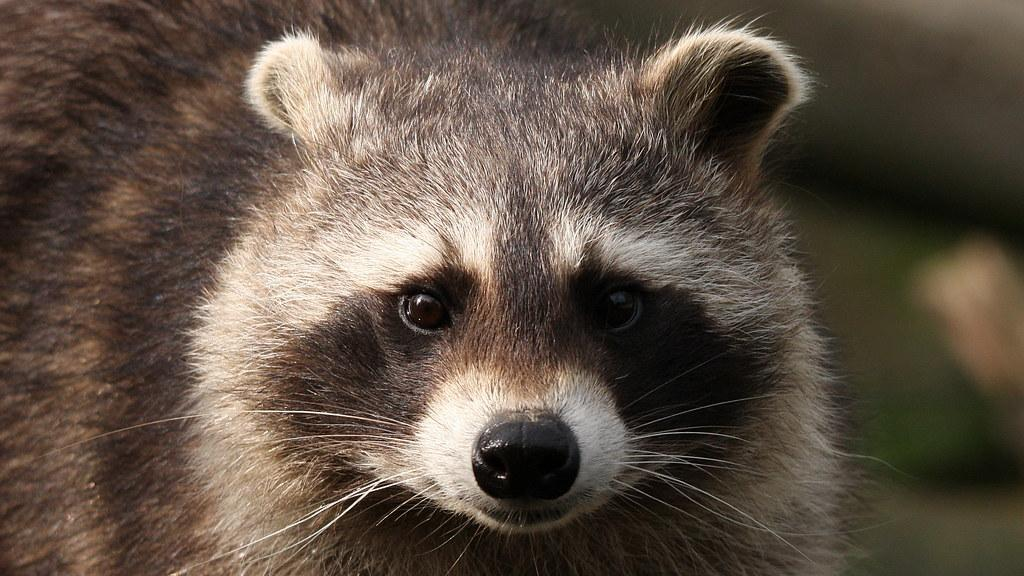raccoon: (0, 0, 848, 576)
